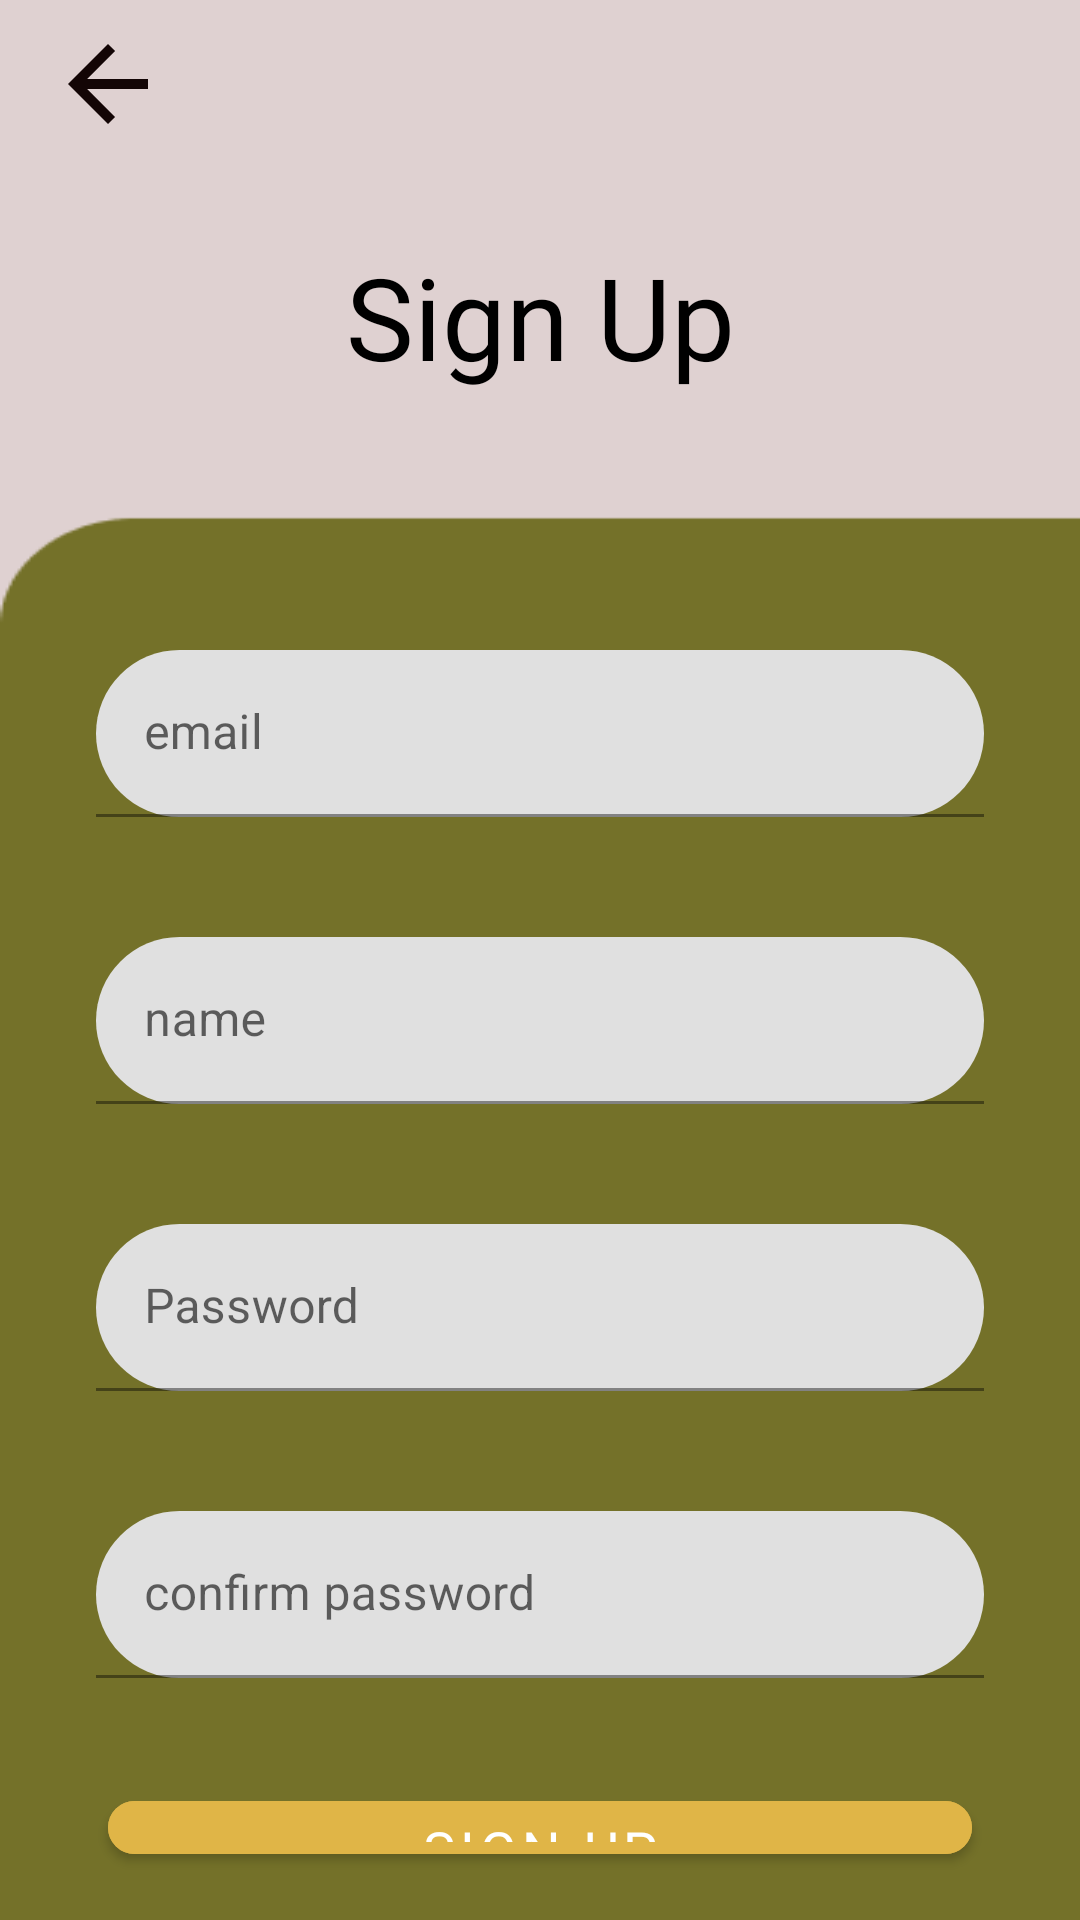

Point at icon controls on the screen. Image size 1080x1920, points as point (x, y).
arrow back: point (108, 84)
